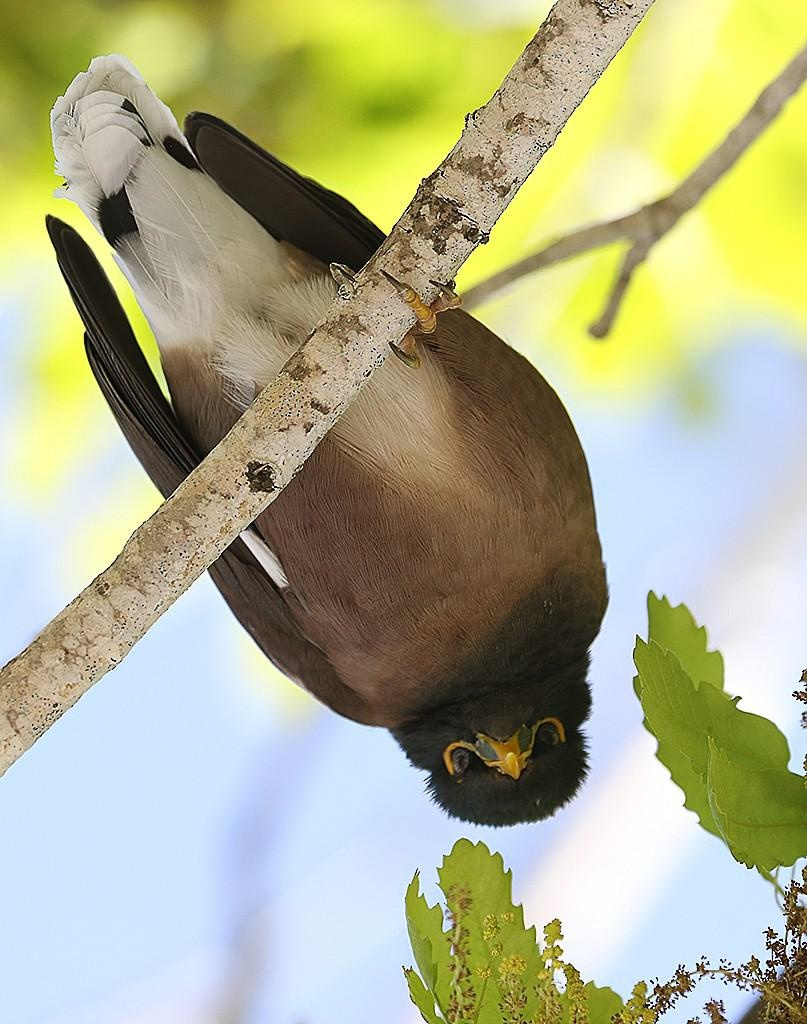myna: (38, 75, 619, 843)
